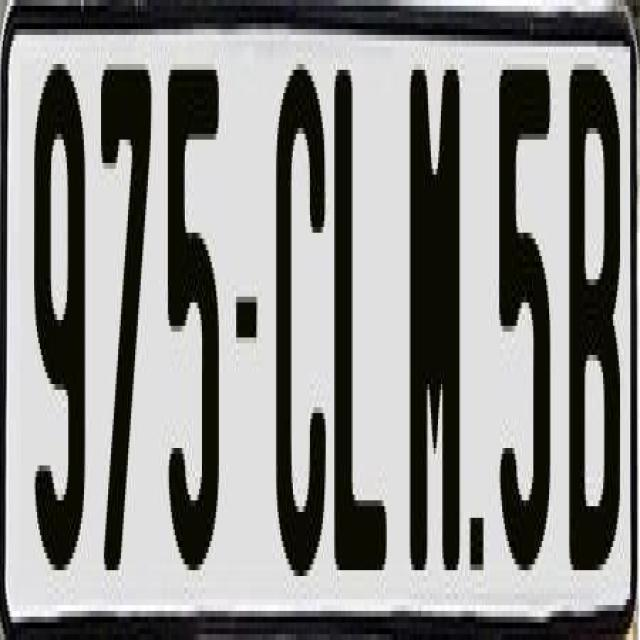5: (498, 70, 552, 606), (164, 63, 216, 600)
7: (97, 70, 148, 606)
9: (32, 46, 92, 582)
B: (566, 70, 616, 582)
C: (272, 58, 331, 582)
L: (332, 52, 386, 576)
M: (408, 64, 459, 594)
